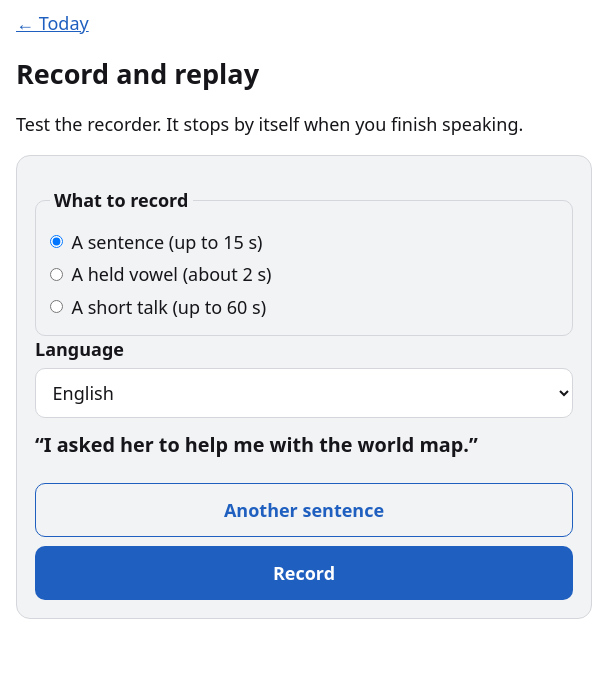
Test: record screen › Recorder_VowelMode_SavesWordTakeWithPrompt
The width and height of the screenshot is (609, 680).
Click the radio button labelled "A held vowel (about 2 s)": (56, 274) [50, 268, 62, 281]
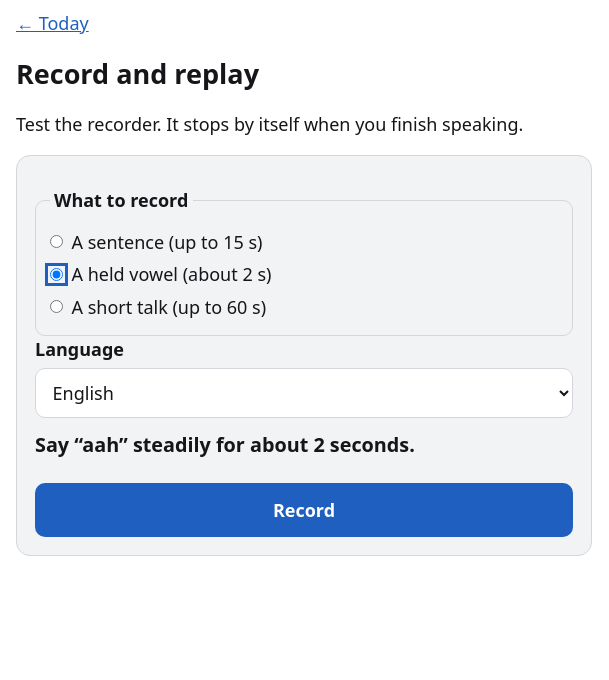
Now the text "Say “aah” steadily for about 2 seconds." is shown, box [35, 431, 415, 458]
Click the button "Record": (304, 510) [35, 483, 573, 537]
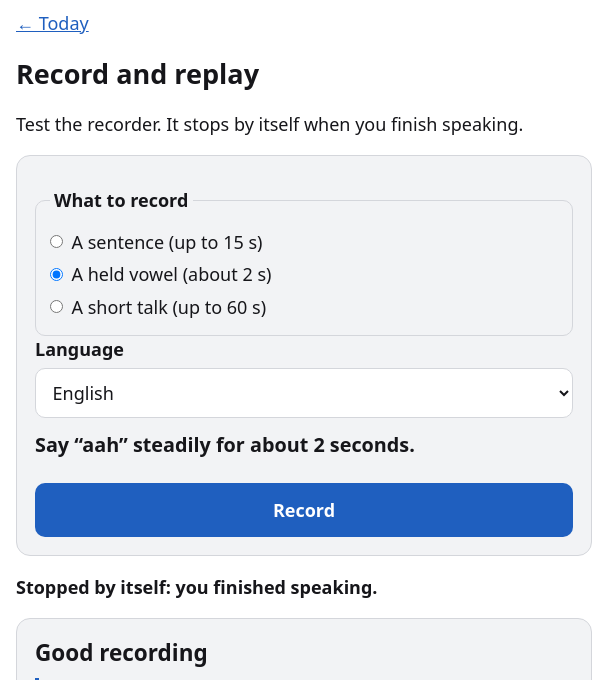
Now the text "Say “aah” steadily for about 2 seconds." is shown, box [35, 431, 415, 458]
Now the heading "Good recording" is shown, box [35, 637, 208, 668]
